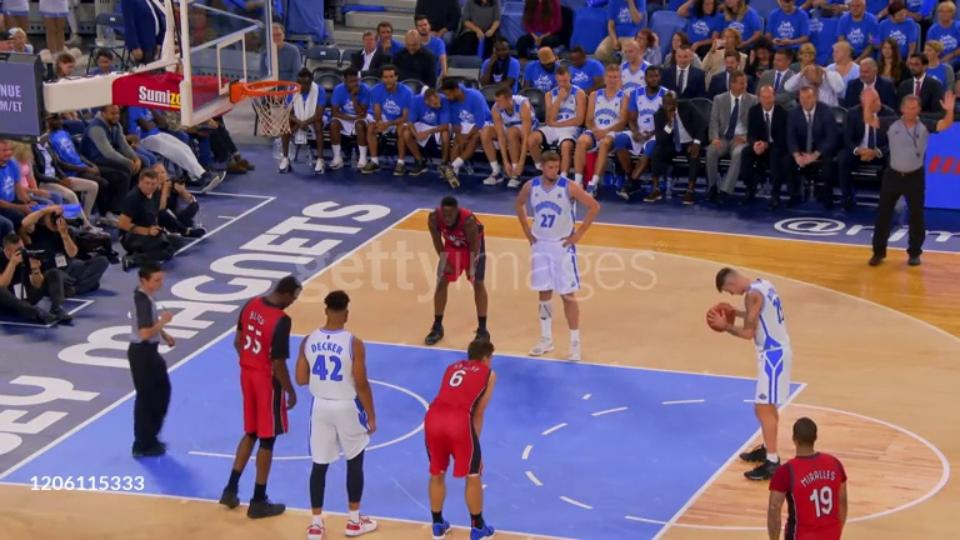hoop: (224, 75, 305, 102)
